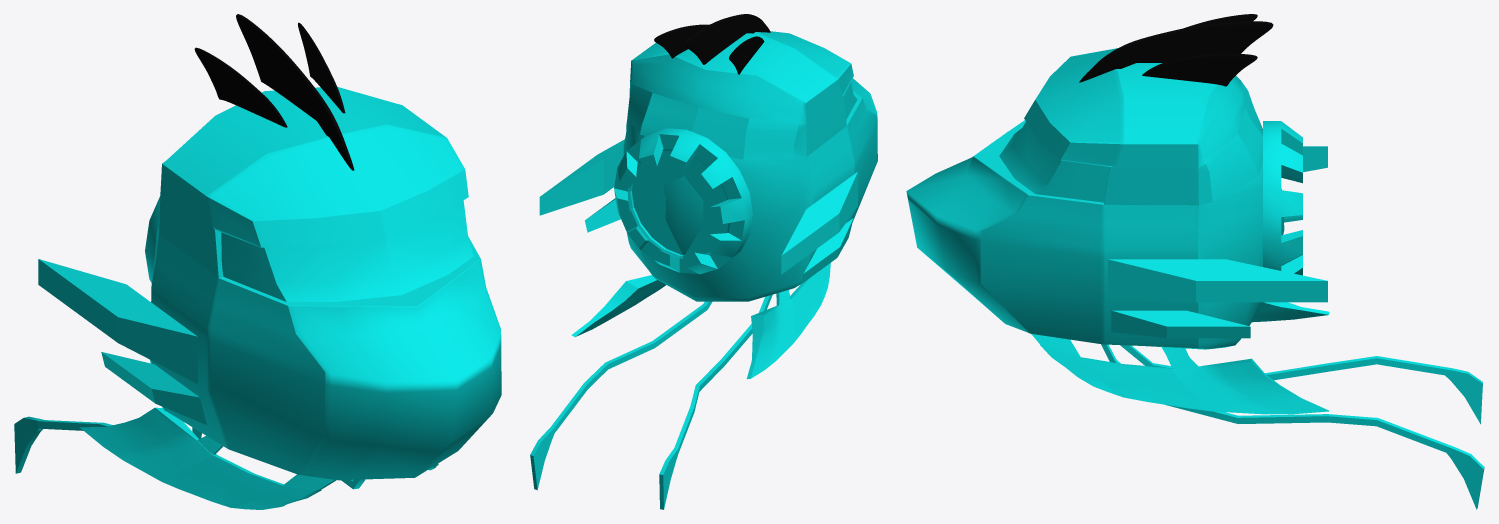
The model's file is serpent.fbx.
The picture shows the model from 3 angles, left to right: view 1: azimuth 30°, elevation 25°; view 2: azimuth 150°, elevation 25°; view 3: azimuth 270°, elevation 25°; orthographic projection. The views are drawn at different scales.
Parts seen in each view (by area): view 1: serpent_body, serpent_windshield, serpent_rudder_r1, serpent_sidefin_r1, polySurface1, serpent_sidefin_r2, polySurface3, serpent_tendril_r, polySurface2, serpent_rudder_r2, serpent_backwheel; view 2: serpent_body, serpent_backwheel, serpent_rudder_r1, serpent_sidefin_r1, serpent_sidefin_l1, serpent_tendril_l, polySurface1, serpent_tendril_r, serpent_rudder_l1, serpent_sidefin_r2, polySurface2, polySurface3 (+1 smaller); view 3: serpent_body, serpent_rudder_l1, serpent_sidefin_l1, serpent_backwheel, polySurface1, serpent_windshield, serpent_tendril_l, serpent_sidefin_l2, serpent_tendril_r, polySurface2, serpent_rudder_r1, serpent_rudder_l2.
Part boxes in pixels (box(x1,y1,x2,y2)): serpent_body: box(150, 87, 501, 480); serpent_windshield: box(221, 200, 473, 301); serpent_rudder_r1: box(80, 407, 321, 509); serpent_sidefin_r1: box(38, 259, 197, 383); polySurface1: box(236, 14, 354, 170); serpent_sidefin_r2: box(101, 352, 206, 424); polySurface3: box(194, 47, 287, 127); serpent_tendril_r: box(14, 416, 284, 507); polySurface2: box(298, 22, 345, 113); serpent_rudder_r2: box(197, 436, 336, 491); serpent_backwheel: box(145, 196, 160, 282); serpent_body: box(623, 31, 877, 301); serpent_backwheel: box(614, 128, 752, 274); serpent_rudder_r1: box(747, 263, 830, 379); serpent_sidefin_r1: box(781, 172, 857, 274); serpent_sidefin_l1: box(539, 139, 624, 215); serpent_tendril_l: box(530, 301, 712, 490); polySurface1: box(685, 14, 770, 64); serpent_tendril_r: box(659, 294, 772, 509); serpent_rudder_l1: box(571, 275, 665, 336); serpent_sidefin_r2: box(801, 218, 853, 284); polySurface2: box(654, 24, 709, 58); polySurface3: box(729, 36, 764, 74); serpent_body: box(906, 48, 1284, 349); serpent_rudder_l1: box(1040, 345, 1328, 414); serpent_sidefin_l1: box(1108, 259, 1327, 302); serpent_backwheel: box(1263, 121, 1302, 275); polySurface1: box(1079, 21, 1273, 82); serpent_windshield: box(999, 122, 1109, 202); serpent_tendril_l: box(1101, 344, 1484, 509); serpent_sidefin_l2: box(1111, 310, 1250, 338); serpent_tendril_r: box(1120, 345, 1482, 424); polySurface2: box(1142, 53, 1257, 86); serpent_rudder_r1: box(1252, 302, 1329, 322); serpent_rudder_l2: box(1031, 334, 1197, 368).
Bounding box in the file's own units: 441 × 694 × 801.
